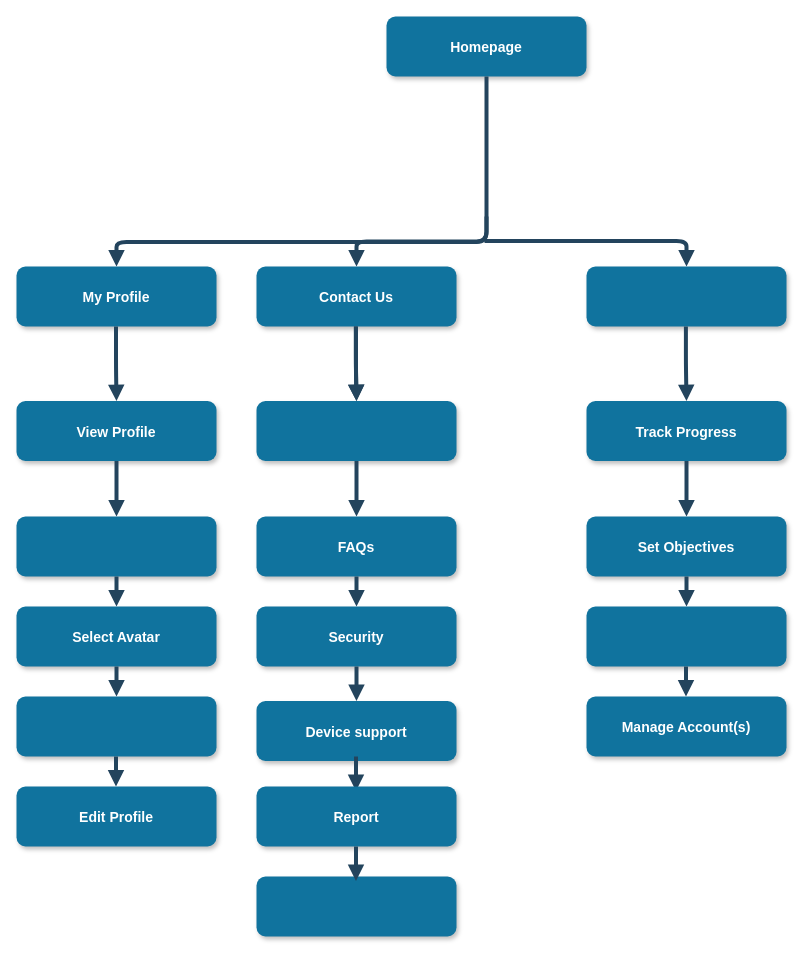
The diagram is 803 pixels wide and 953 high, and some of its shapes have lost their labels. The shapes that lost their labels are listed below. From the top down, each one's centre as x and y in pixels, then its label:
At (687,297): "My Kid(s)".
At (357,432): "The company".
At (117,547): "Parental Controls".
At (687,637): "Chat to teachers".
At (117,727): "Delete Account".
At (357,907): "Feedback".
